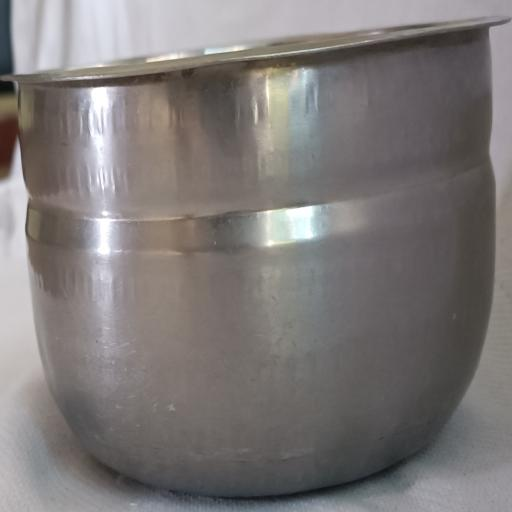vessel: (16, 18, 506, 496)
